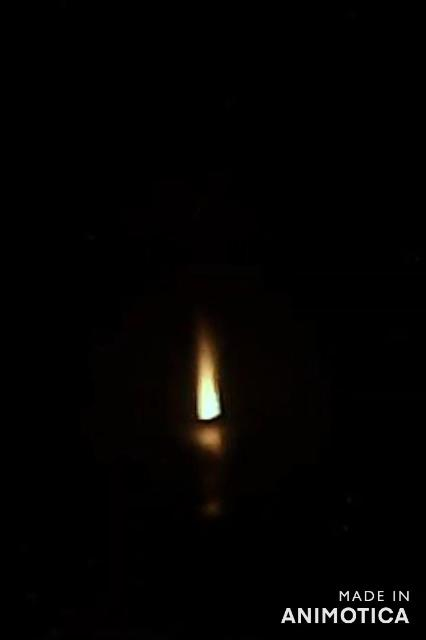burner flame: (194, 324, 226, 422)
